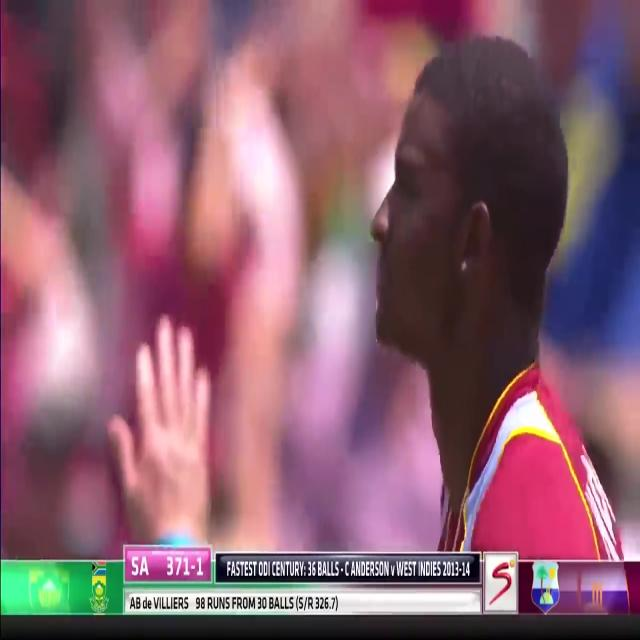Fielder: (255, 1, 640, 559)
